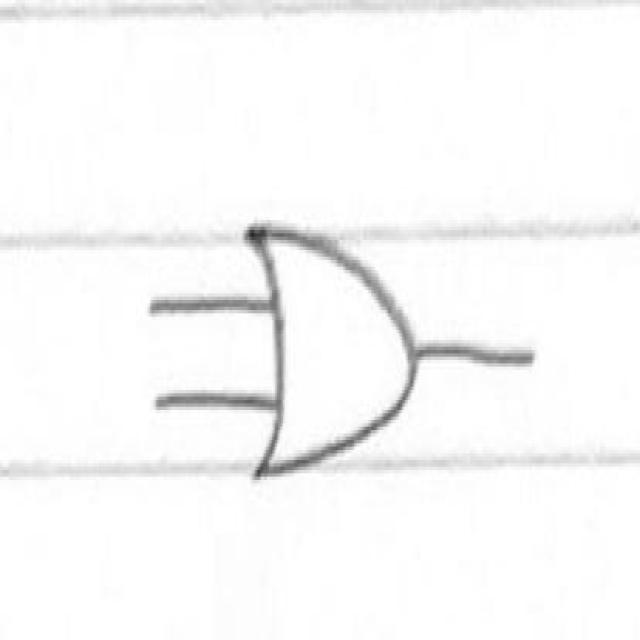OR: (235, 200, 428, 522)
